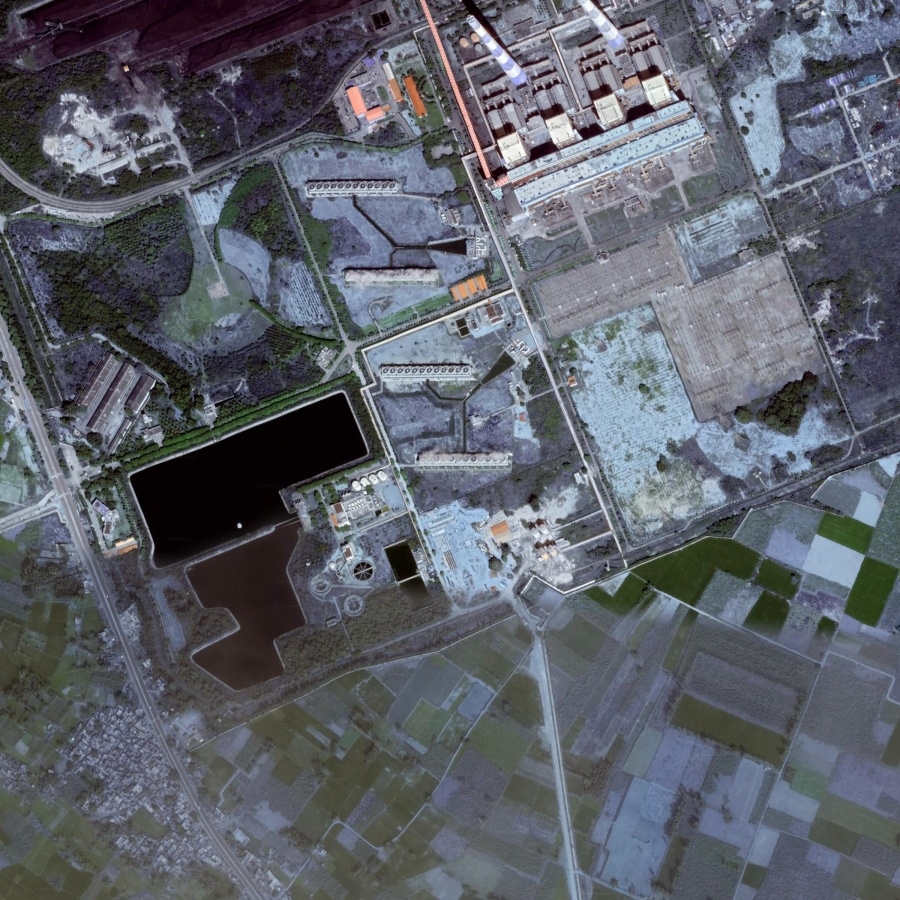PowerPlant: (109, 383, 379, 611)
